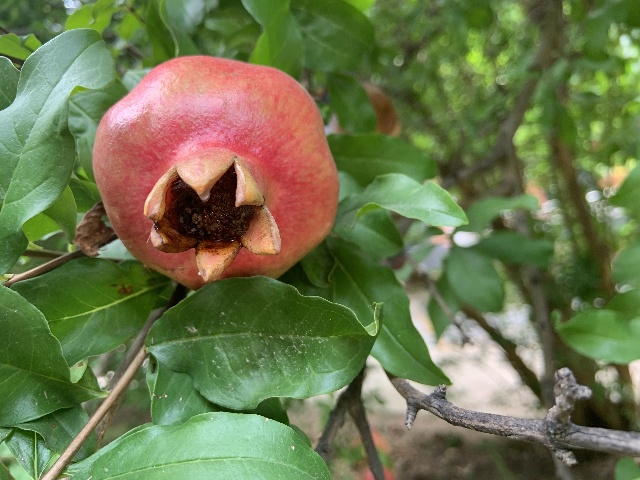ripe: (93, 56, 340, 286)
